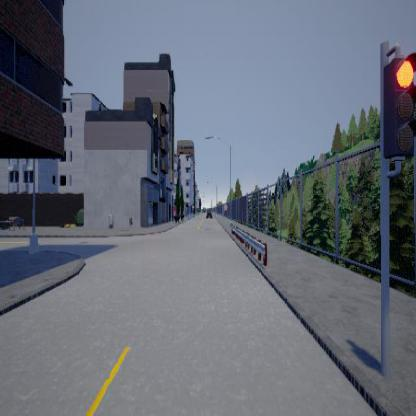traffic_light_red: (383, 42, 415, 177)
